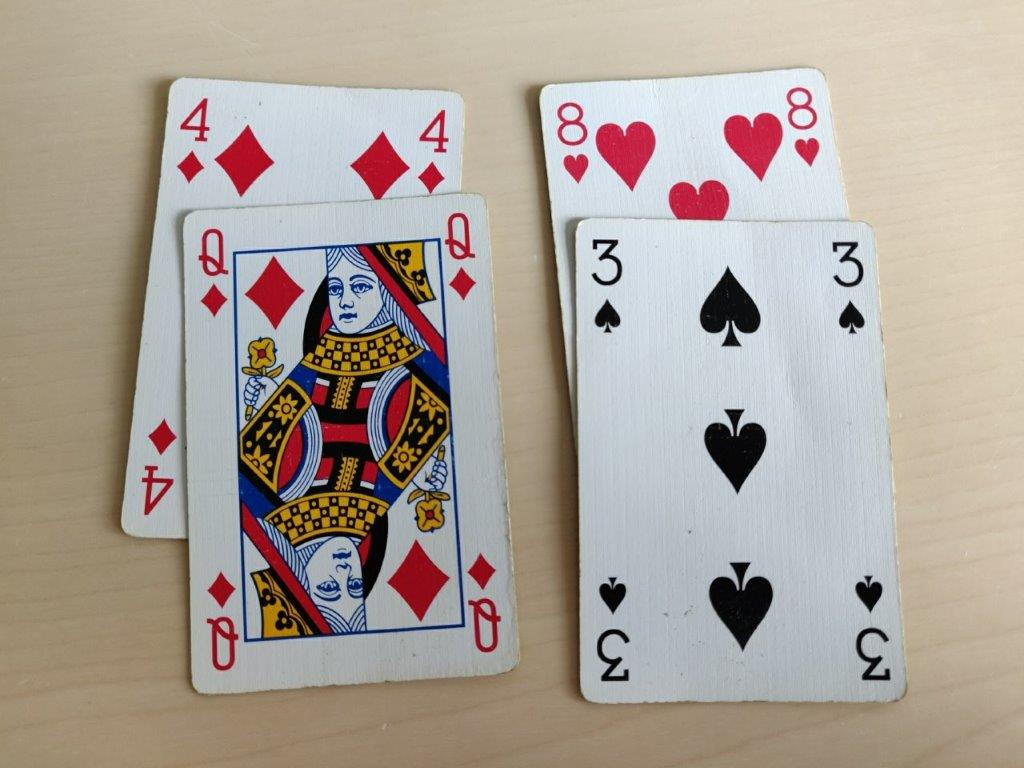3S: (579, 230, 631, 341), (823, 232, 870, 342)
4D: (409, 95, 456, 198), (166, 90, 216, 186)
8H: (545, 90, 596, 188), (777, 81, 823, 167)
QD: (435, 202, 484, 304), (196, 223, 230, 325)
